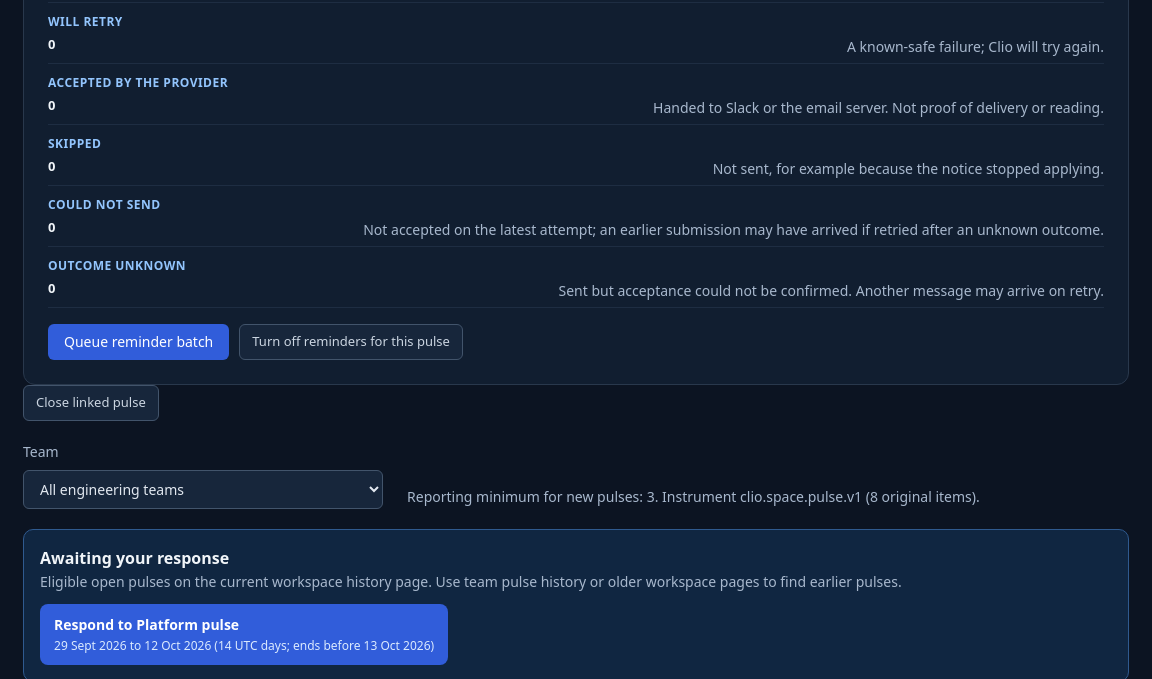
it: owner aggregate delivery controls › replays the identical request after an unknown outcome instead of starting a new send
(page scrolled)
Click the button "Queue reminder batch".
click(139, 342)  # box [48, 324, 229, 360]
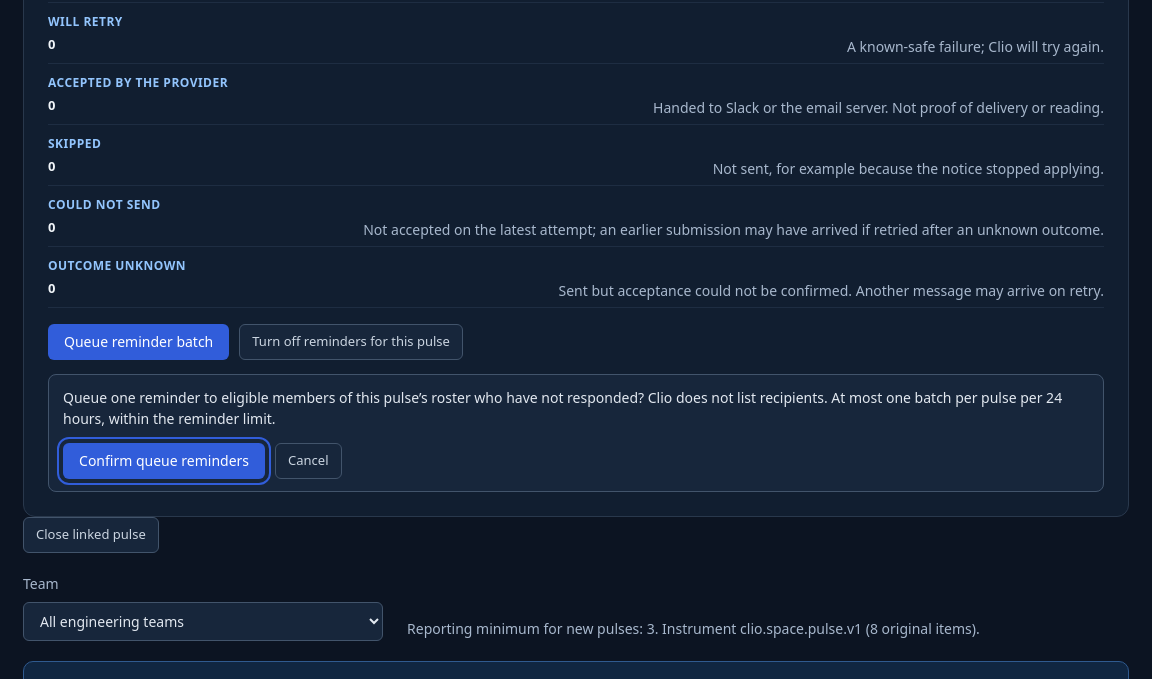
Click the button "Confirm queue reminders".
click(164, 461)  # box [63, 443, 265, 479]
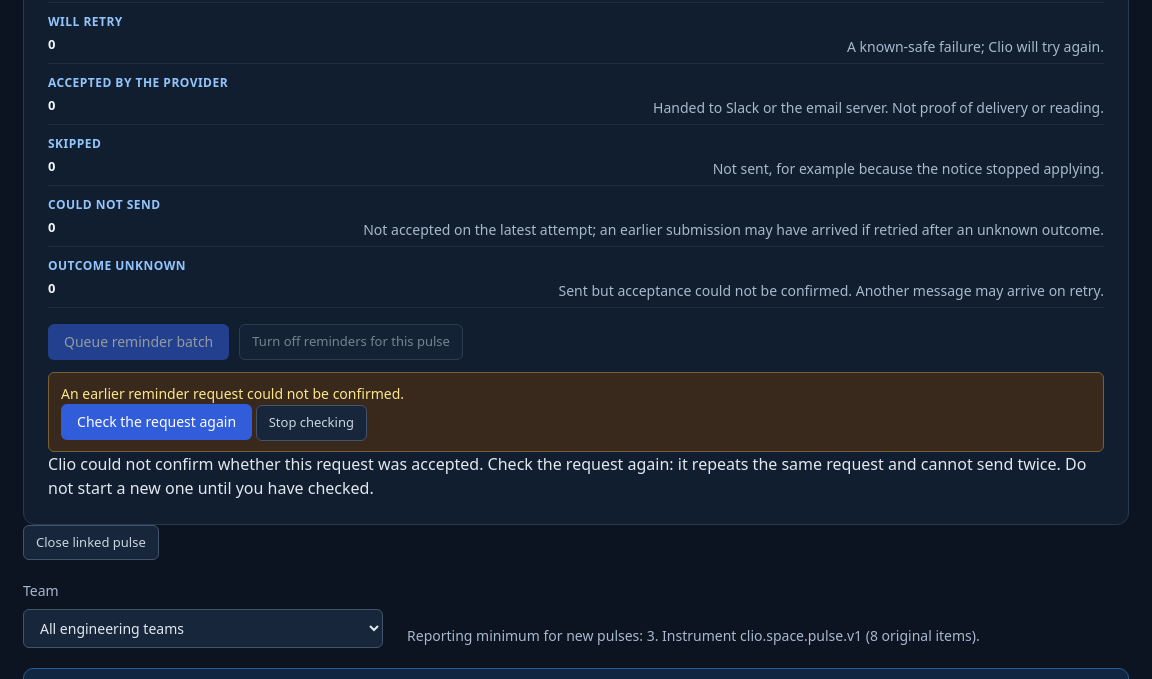
Check: the text "could not confirm whether this request was accepted" is shown, box [48, 452, 1086, 498]
Click the button "Queue reminder batch".
click(139, 342)  # box [48, 324, 229, 360]
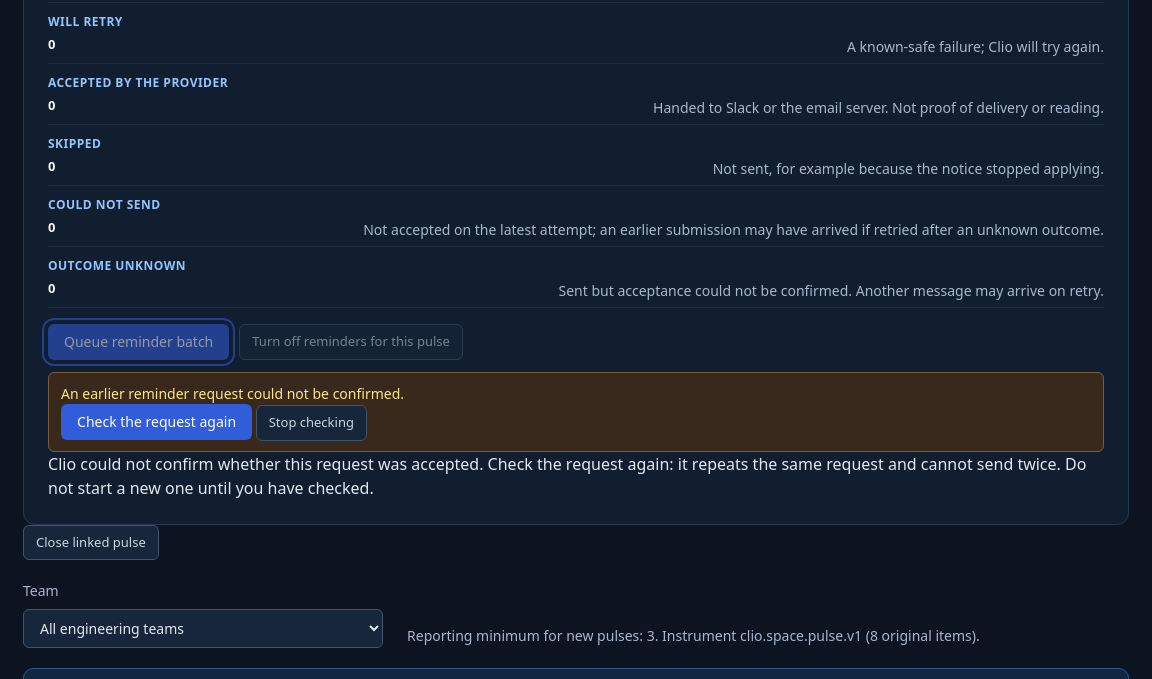
Check: the button "Confirm queue reminders" is not shown
Click the button "Check the request again".
click(156, 422)  # box [61, 404, 252, 440]
(page scrolled)
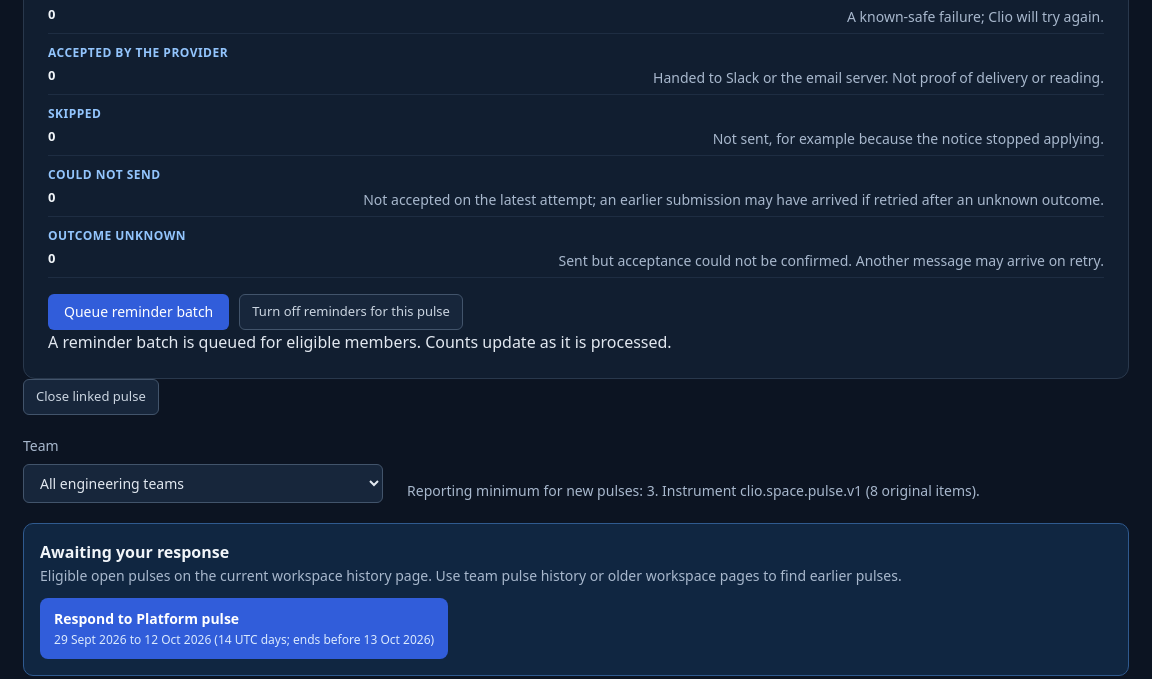
Check: the text "reminder batch is queued" is shown, box [48, 331, 672, 353]
